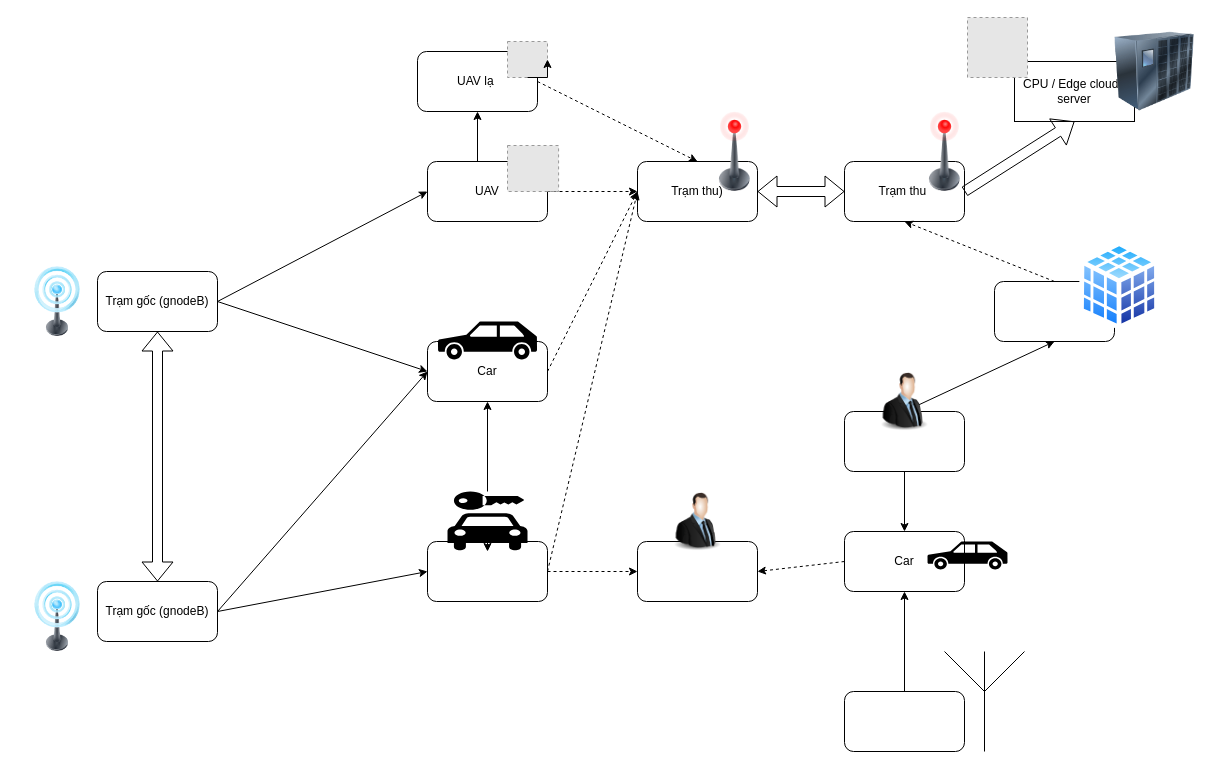
Image size: 1211x769. Some labels were removed from this diagram. Grey dashed boxes stand in for pictures. The centre of each missing label's shape, as x and y in pixels:
"Building" belongs at point 1054,311.
"Car ( ISAC Tranciever) )" belongs at point 487,571.
"RUE" belongs at point 697,571.
"Trạm phát Tx" belongs at point 904,721.
"TUE" belongs at point 904,441.
